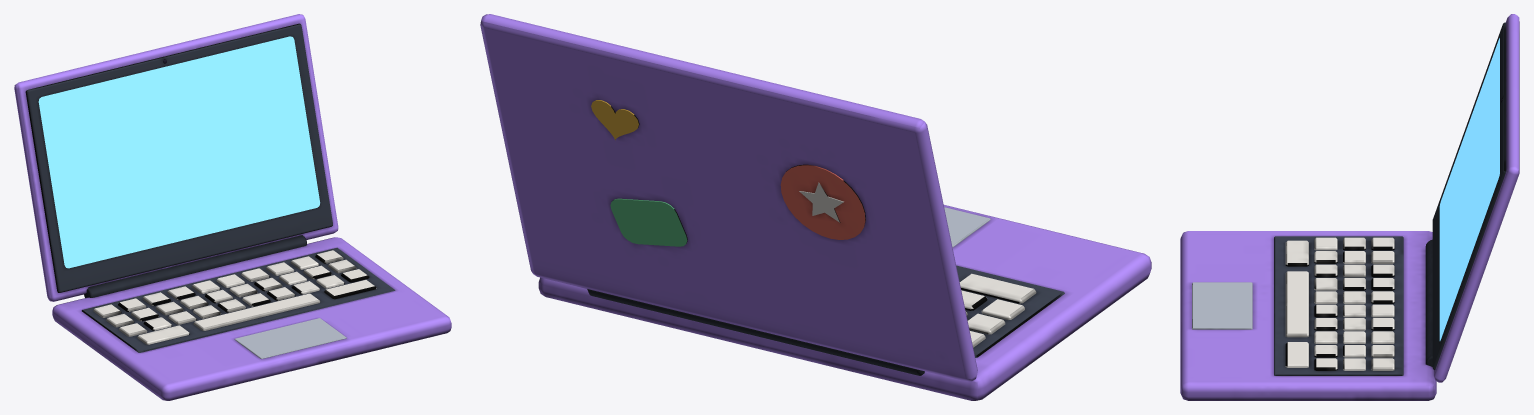
File: laptop.glb
The picture shows the model from 3 angles, left to right: view 1: azimuth 30°, elevation 25°; view 2: azimuth 150°, elevation 25°; view 3: azimuth 270°, elevation 25°; orthographic projection. The views are drawn at different scales.
Parts seen in each view (by area): view 1: laptop; view 2: laptop; view 3: laptop.
Part boxes in pixels (x1,y1,x2,y2): laptop: [14, 14, 451, 400]; laptop: [480, 14, 1151, 400]; laptop: [1180, 14, 1519, 400].
Bounding box in the file's own units: 0.32 × 0.2228 × 0.2912.
Materials: 11 (10 with a texture image).
